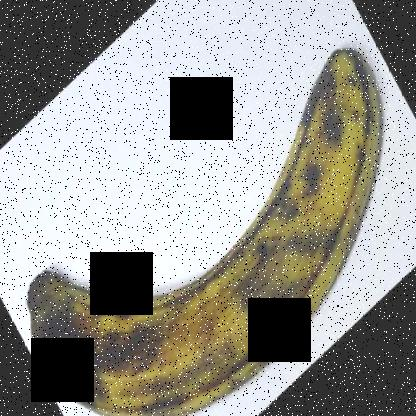overripe: (22, 40, 397, 416)
